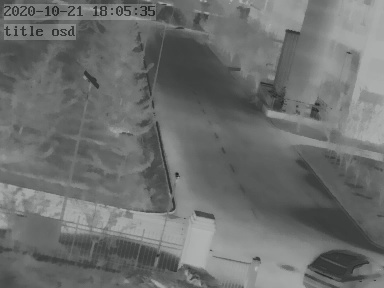vehicle: (301, 247, 384, 288)
